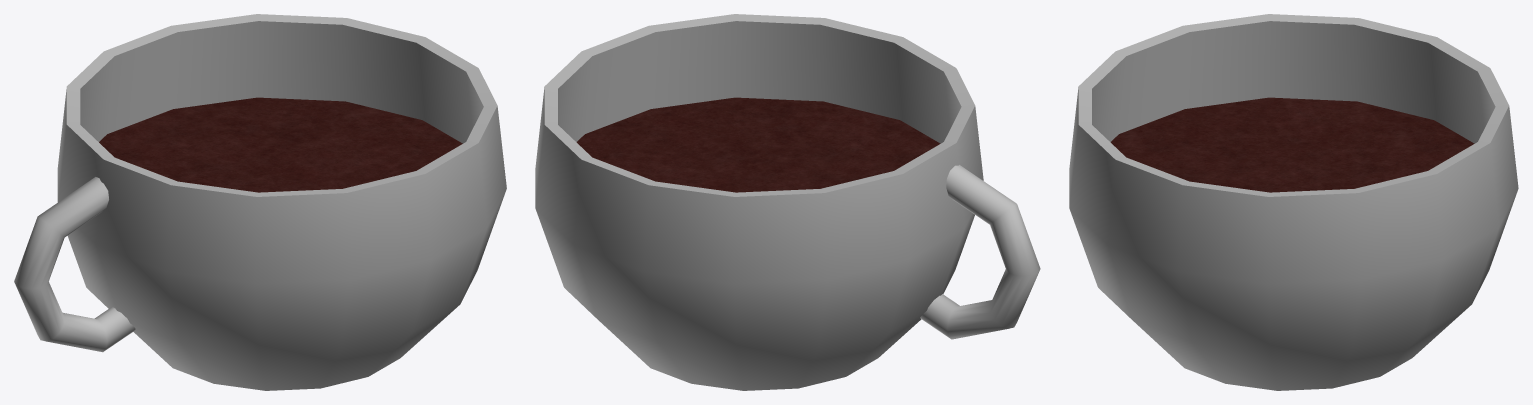
File: ASM - PBR Metallic Roughness.gltf
3 views of the same model, side by side, from view 1: azimuth 30°, elevation 25°; view 2: azimuth 150°, elevation 25°; view 3: azimuth 270°, elevation 25° (orthographic).
Parts seen in each view (by area): view 1: Sphere001; view 2: Sphere001; view 3: Sphere001.
Part boxes in pixels (bbox=[...]): Sphere001: bbox=[14, 14, 506, 390]; Sphere001: bbox=[535, 14, 1040, 390]; Sphere001: bbox=[1069, 14, 1518, 390].
Bounding box in the file's own units: 0.3087 × 0.145 × 0.2568.
1 material, 1 textured.
